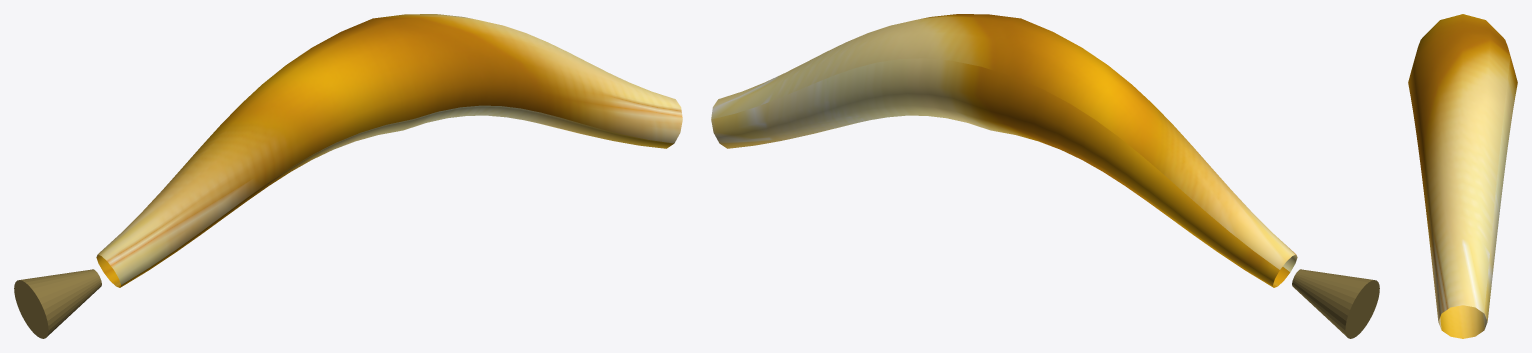
The model's file is banana.glb.
3 views of the same model, side by side, from view 1: azimuth 30°, elevation 25°; view 2: azimuth 150°, elevation 25°; view 3: azimuth 270°, elevation 25° (orthographic). The views are drawn at different scales.
Visible parts, largest first — view 1: Banana; view 2: Banana; view 3: Banana.
Part boxes in pixels (box(x1,y1,x2,y2)): Banana: box(14, 14, 682, 338); Banana: box(711, 14, 1379, 338); Banana: box(1408, 14, 1517, 338).
Size of the model in its own units: 1.16 by 0.3919 by 0.18.
Materials: 2 (1 with a texture image).
